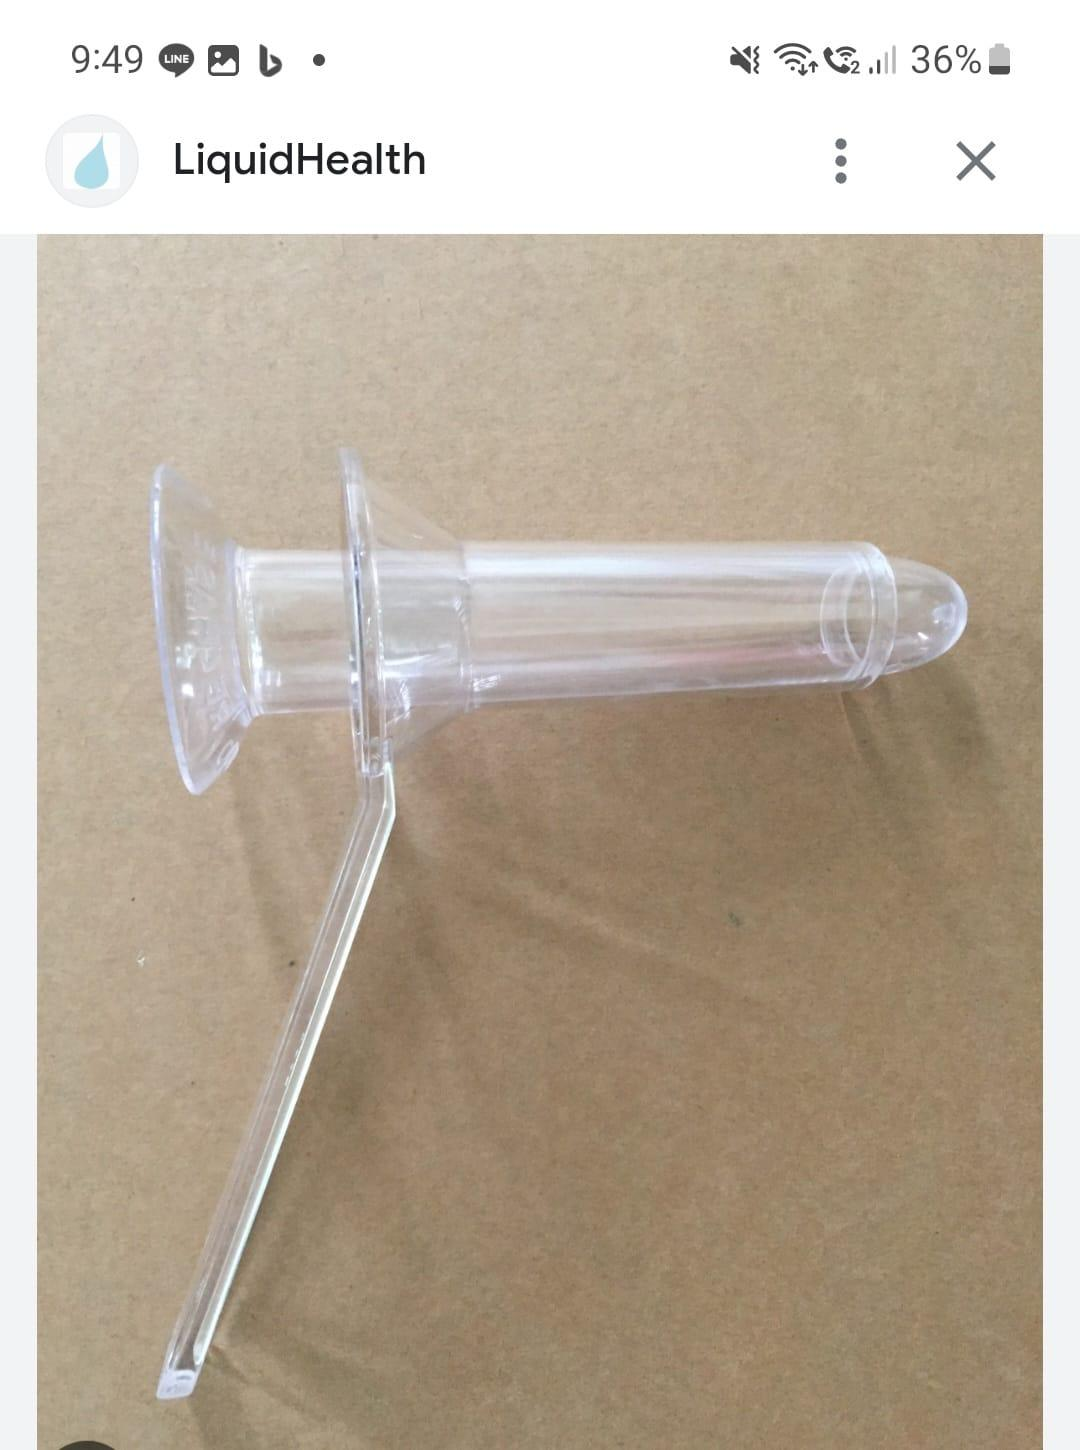Protoscope: (116, 422, 974, 1416)
